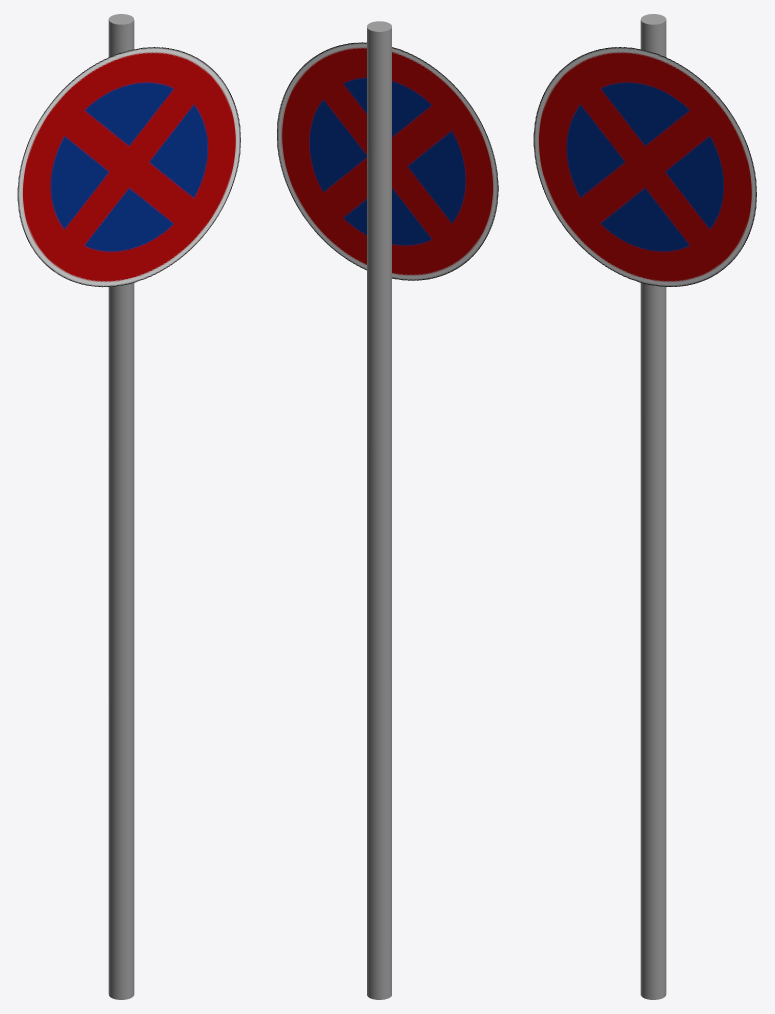
Rendered from parkverbot_sign.fbx.
3 views of the same model, side by side, from view 1: azimuth 30°, elevation 25°; view 2: azimuth 150°, elevation 25°; view 3: azimuth 330°, elevation 25° (orthographic).
Parts seen in each view (by area): view 1: pPlane1, pCylinder1; view 2: pPlane1, pCylinder1; view 3: pPlane1, pCylinder1.
Boxes of the visible parts, bbox=[...] form: pPlane1: bbox=[17, 47, 240, 287]; pCylinder1: bbox=[108, 14, 134, 999]; pPlane1: bbox=[277, 42, 498, 280]; pCylinder1: bbox=[367, 21, 391, 999]; pPlane1: bbox=[533, 47, 756, 286]; pCylinder1: bbox=[640, 14, 666, 999].
Bounding box in the file's own units: 1 × 4.05 × 0.1085.
